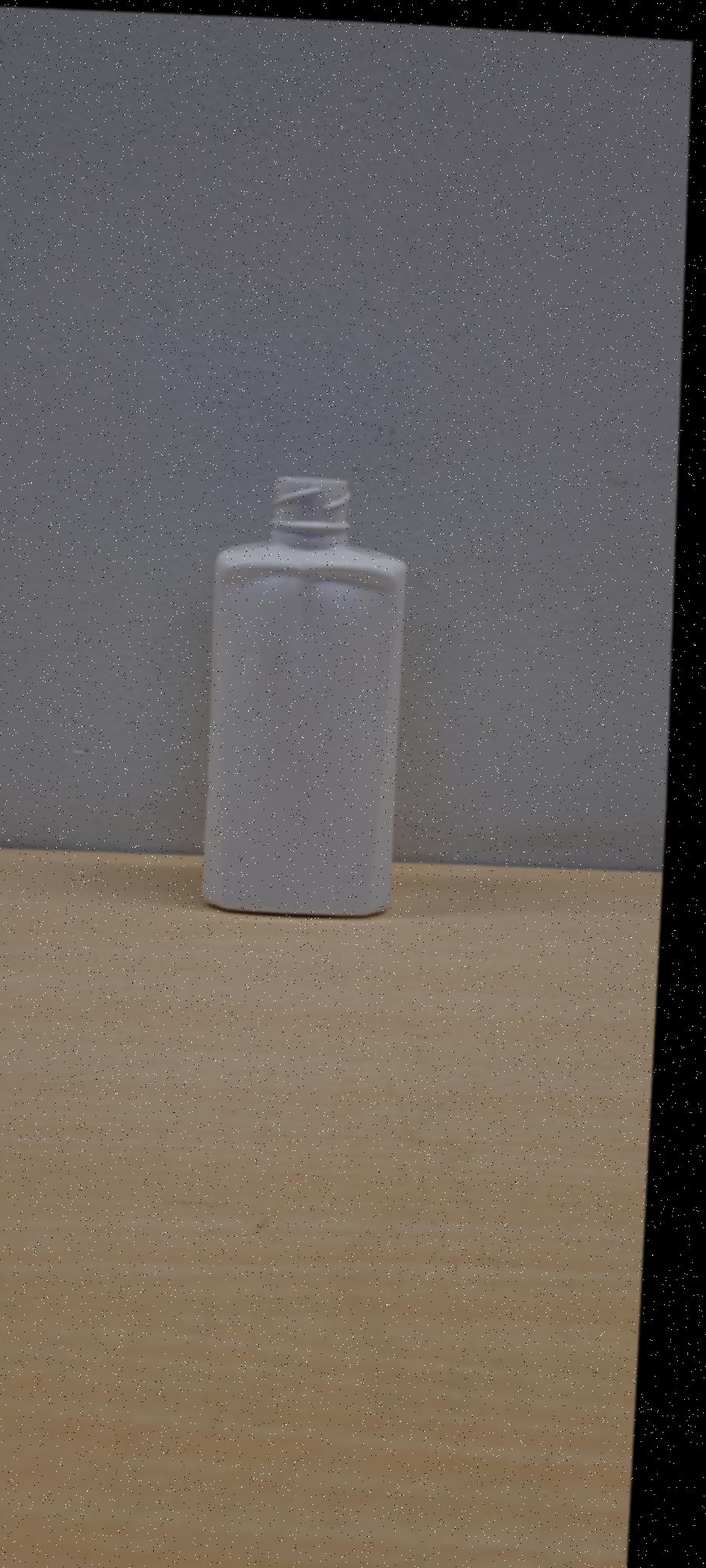bottle: (202, 475, 406, 916), (216, 548, 404, 619)
